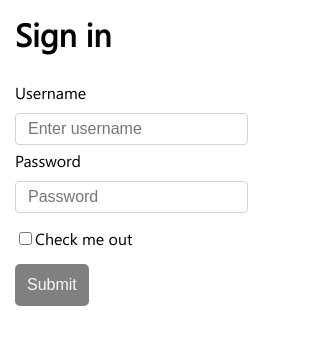
Test: hides username error when username is entered
The image size is (320, 344).
Focus the field with test id "signin-username" at {"x": 132, "y": 128}, box top-left (15, 112), bottom-right (248, 144)
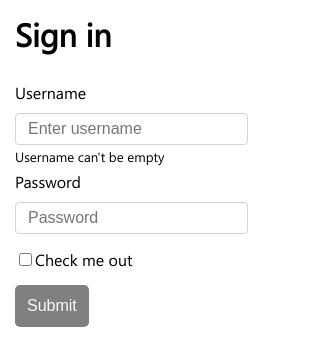
Type "testuser" into the field with test id "signin-username".
click(132, 128); type("testuser")  # box top-left (15, 112), bottom-right (248, 144)
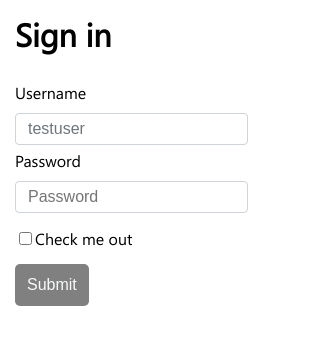
Check: the text with test id "username-error" is gone
